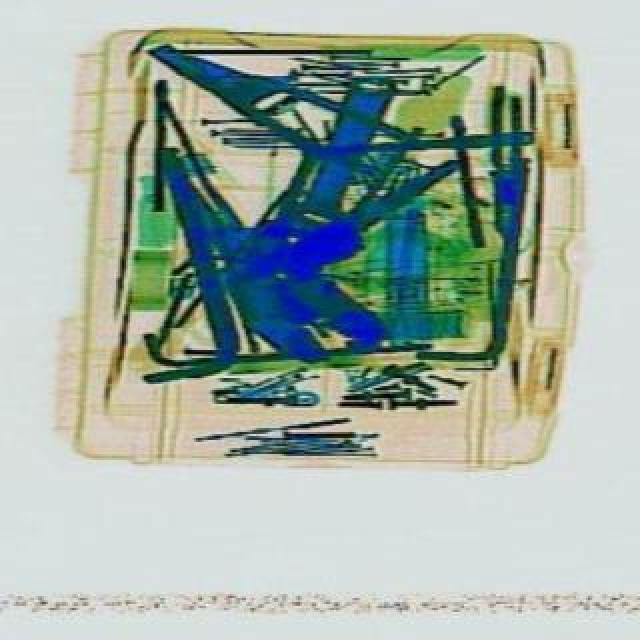scissors: (268, 68, 424, 280)
wrench: (146, 26, 418, 192)
